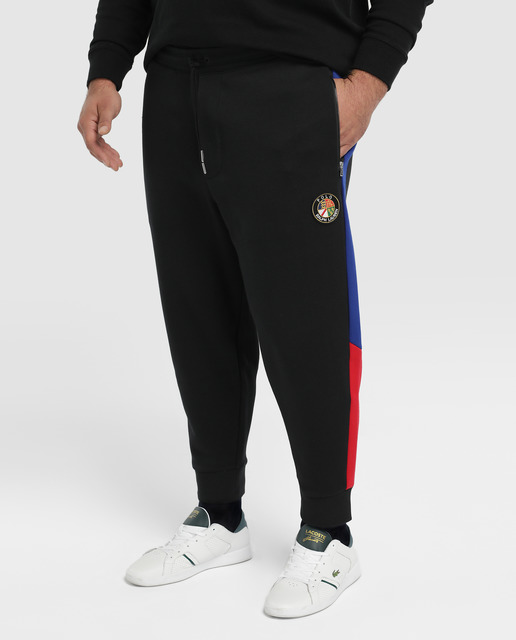feet: (107, 442, 367, 622)
